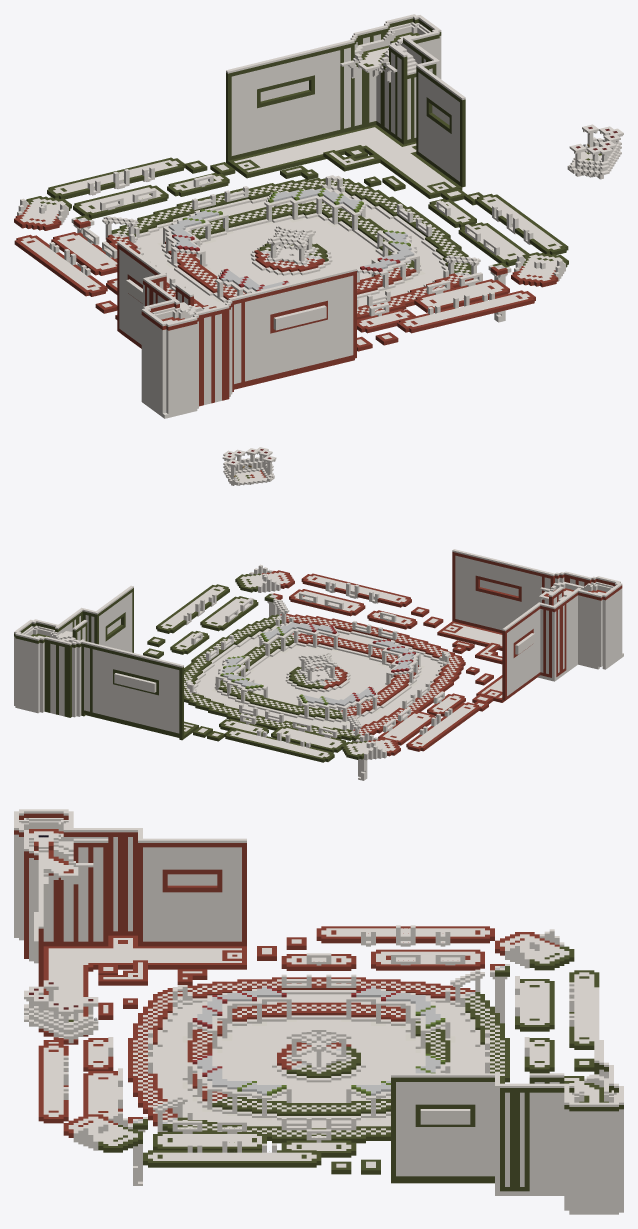
The model's file is minecraft.obj.
The picture shows the model from 3 angles, top to bottom: view 1: azimuth 30°, elevation 25°; view 2: azimuth 150°, elevation 25°; view 3: azimuth 270°, elevation 25°; orthographic projection. The views are drawn at different scales.
Bounding box in the file's own units: 141 × 50 × 123.
